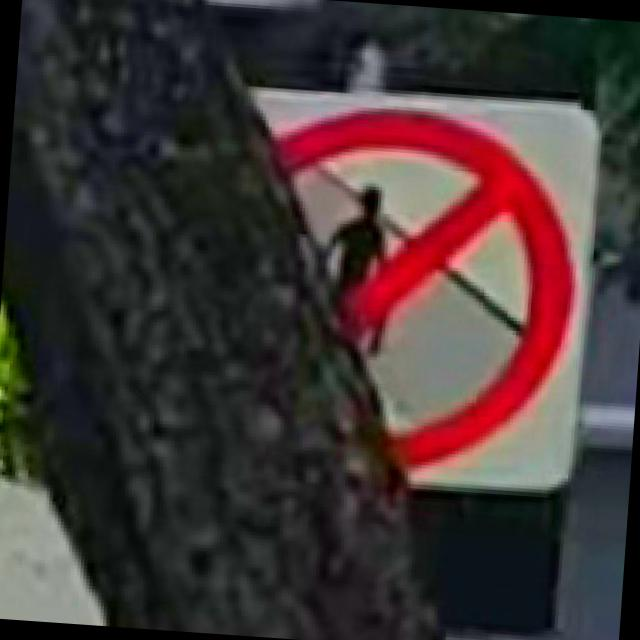nojaywalking_sign: (214, 72, 607, 502), (314, 177, 398, 316)
